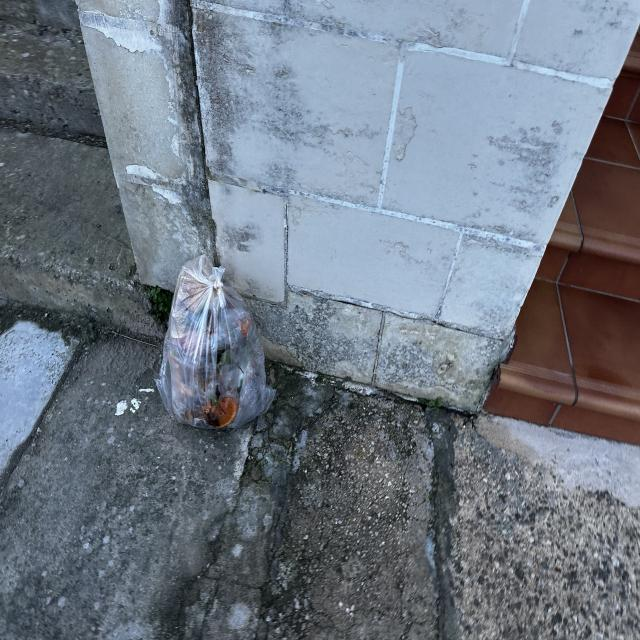Organic Waste -White Bags-: (153, 253, 275, 429)
